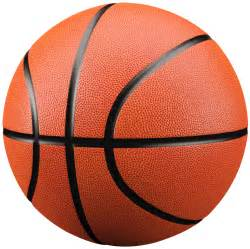basketball: (1, 1, 250, 248)
